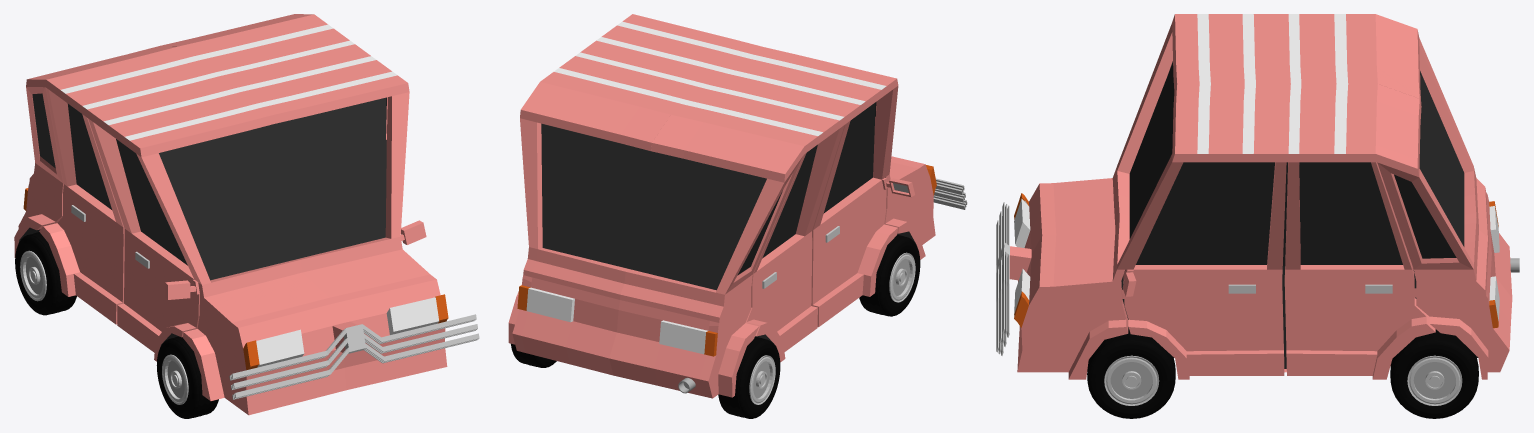
The picture shows the model from 3 angles, left to right: view 1: azimuth 30°, elevation 25°; view 2: azimuth 150°, elevation 25°; view 3: azimuth 270°, elevation 25°; orthographic projection. The views are drawn at different scales.
Parts seen in each view (by area): view 1: BODY47, WHEEL.001, WHEEL.004; view 2: BODY47, WHEEL.004, WHEEL.001, WHEEL.002; view 3: BODY47, WHEEL.002, WHEEL.003.
Part boxes in pixels (box(x1,y1,x2,y2)): BODY47: box(14, 14, 479, 415); WHEEL.001: box(156, 336, 218, 418); WHEEL.004: box(15, 232, 76, 315); BODY47: box(508, 14, 967, 398); WHEEL.004: box(718, 336, 780, 418); WHEEL.001: box(859, 234, 920, 316); WHEEL.002: box(511, 343, 556, 367); BODY47: box(996, 14, 1512, 379); WHEEL.002: box(1390, 329, 1478, 418); WHEEL.003: box(1087, 329, 1175, 418).
Size of the model in its own units: 146 by 134 by 231.
